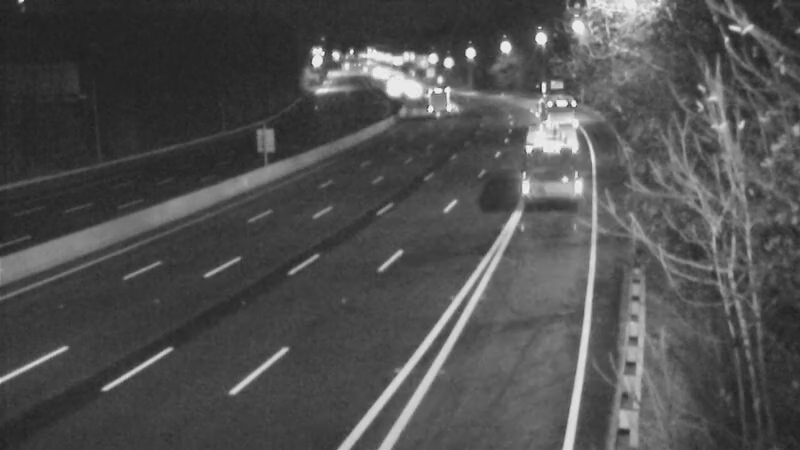vehicle: (530, 84, 580, 134), (412, 75, 462, 125), (526, 125, 576, 175)
